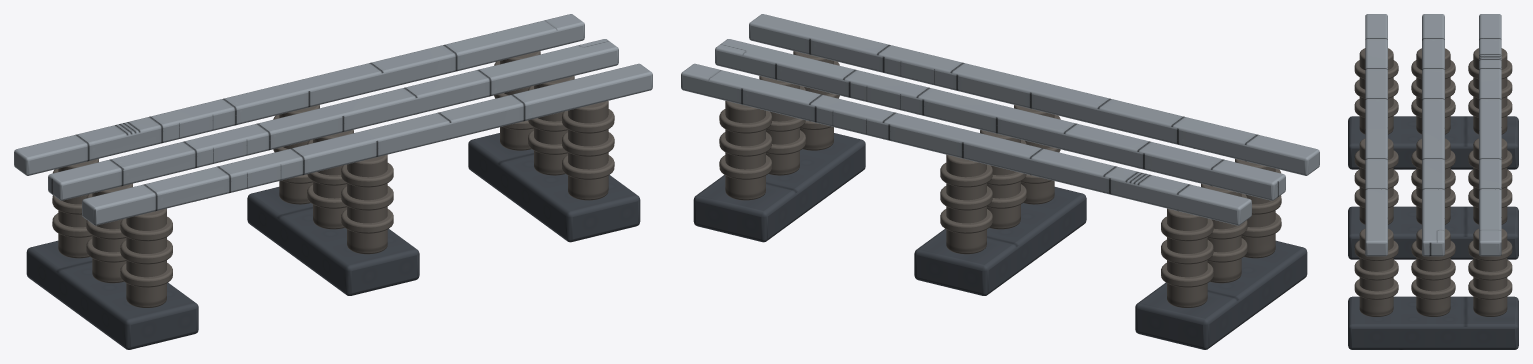
Rendered from ops_switchyard_busbar_lod0.glb.
3 views of the same model, side by side, from view 1: azimuth 30°, elevation 25°; view 2: azimuth 150°, elevation 25°; view 3: azimuth 270°, elevation 25° (orthographic). The views are drawn at different scales.
Visible parts, largest first — view 1: LOD0_BrushedMetal, LOD0_Mechanical, LOD0_Ceramic; view 2: LOD0_BrushedMetal, LOD0_Mechanical, LOD0_Ceramic; view 3: LOD0_Ceramic, LOD0_BrushedMetal, LOD0_Mechanical.
Boxes of the visible parts, bbox=[...] form: LOD0_BrushedMetal: bbox=[14, 14, 652, 225]; LOD0_Mechanical: bbox=[26, 133, 640, 349]; LOD0_Ceramic: bbox=[52, 51, 614, 307]; LOD0_BrushedMetal: bbox=[681, 14, 1319, 225]; LOD0_Mechanical: bbox=[693, 133, 1307, 349]; LOD0_Ceramic: bbox=[719, 51, 1281, 307]; LOD0_Ceramic: bbox=[1354, 48, 1512, 316]; LOD0_BrushedMetal: bbox=[1365, 14, 1501, 256]; LOD0_Mechanical: bbox=[1348, 116, 1518, 349].
Bounding box in the file's own units: 3.8 × 0.92 × 1.2.
3 materials, 3 textured.
